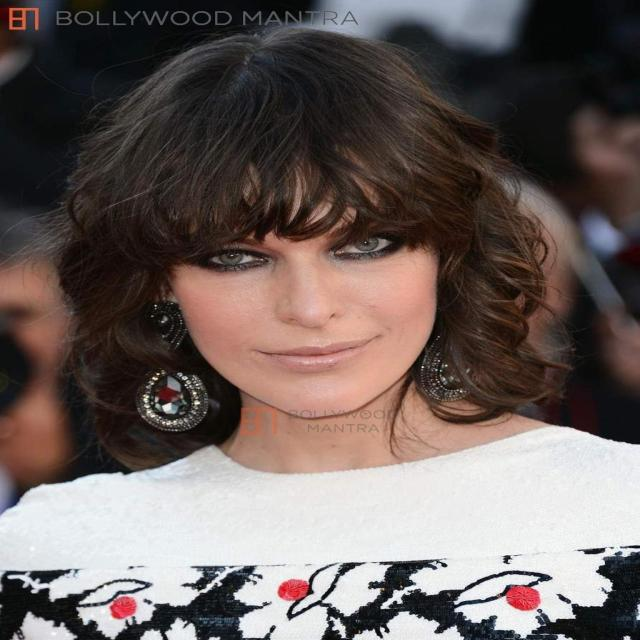Face: (114, 181, 462, 422)
